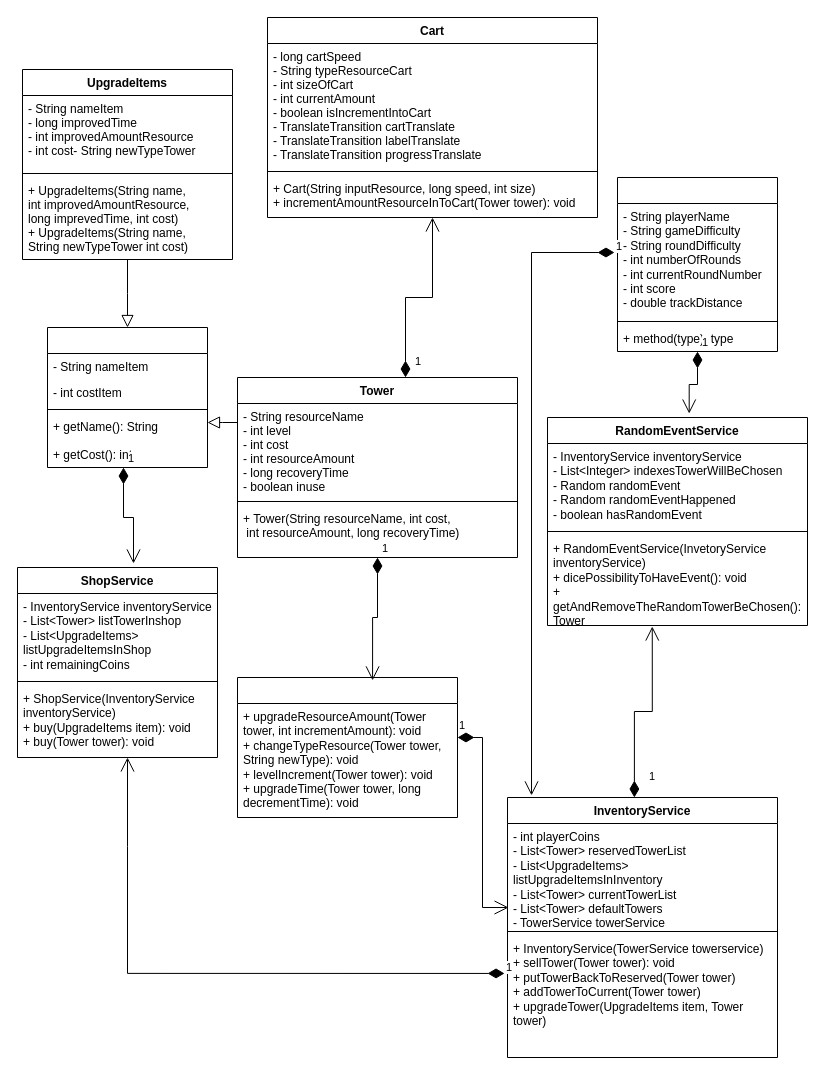
Image size: 825x1078. Some labels were removed from this diagram. Here are the shapes that lost their labels. From the top down, the box of each, then its label:
(616, 176, 778, 352): EnvironmentManager
(46, 326, 208, 468): PurchasableItem
(236, 676, 458, 818): TowerService
